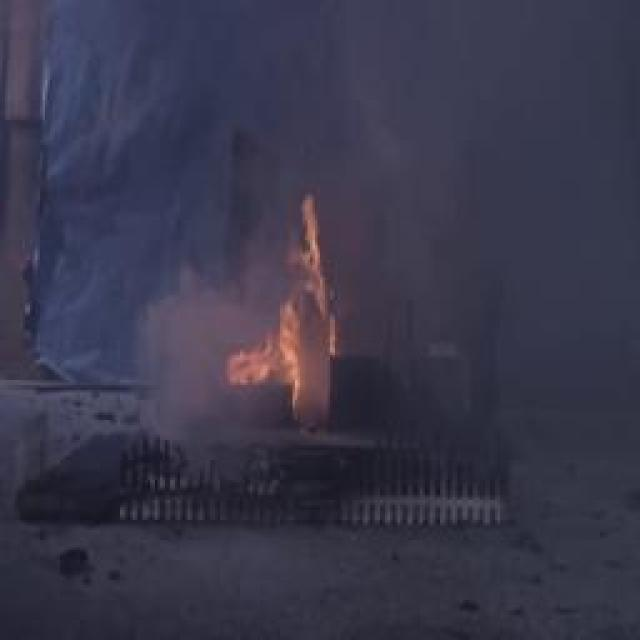fire: (225, 194, 347, 421)
